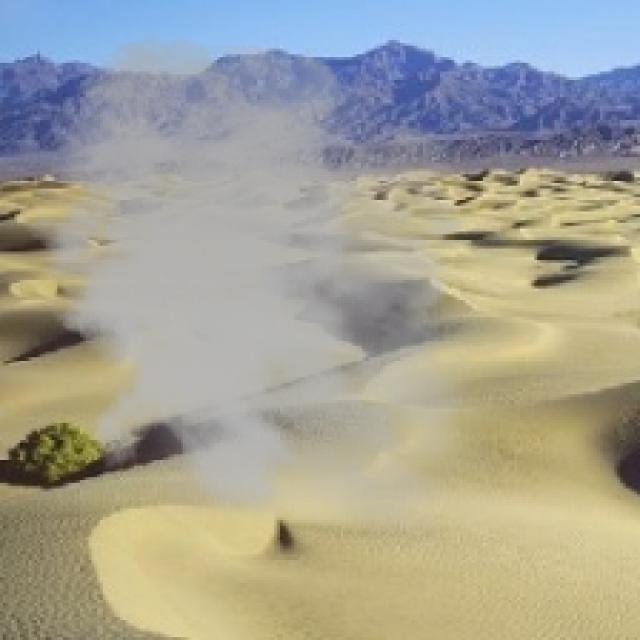Smoke: (9, 34, 528, 557)
